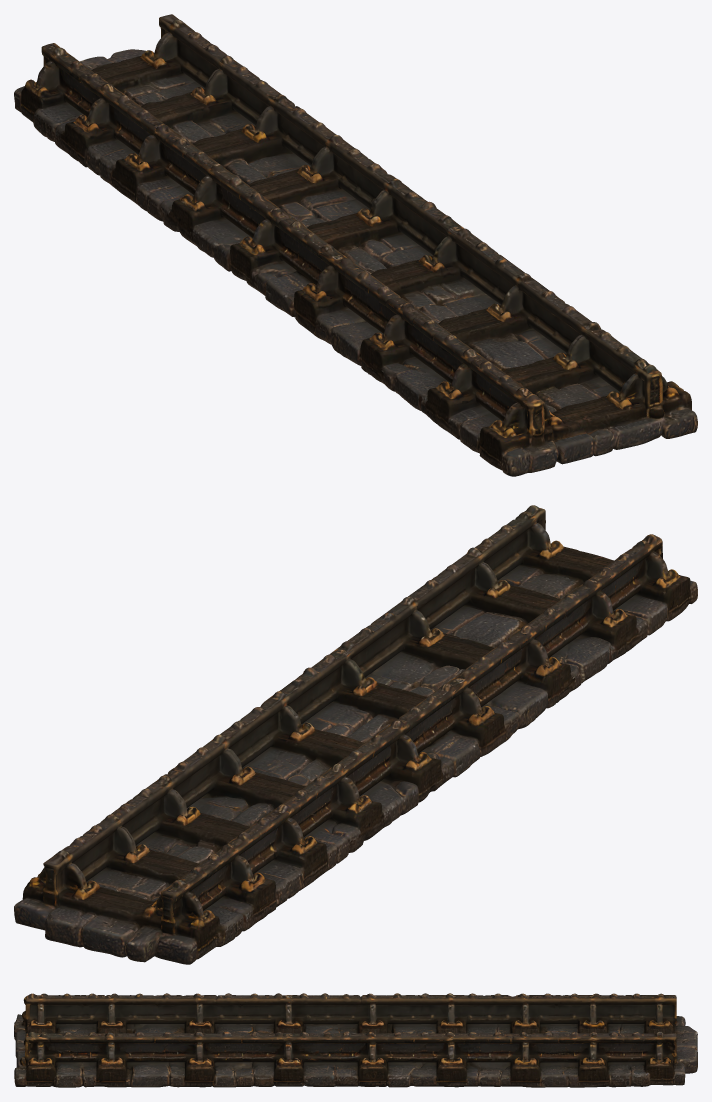
The model's file is raw_floorrail.glb.
The picture shows the model from 3 angles, top to bottom: view 1: azimuth 30°, elevation 25°; view 2: azimuth 150°, elevation 25°; view 3: azimuth 270°, elevation 25°; orthographic projection. The views are drawn at different scales.
Parts seen in each view (by area): view 1: floorrail; view 2: floorrail; view 3: floorrail.
Part boxes in pixels (x1,y1,x2,y2): floorrail: (14, 14, 697, 476); floorrail: (14, 505, 697, 964); floorrail: (14, 993, 697, 1087).
Bounding box in the file's own units: 0.2165 × 0.0712 × 1.
1 material, 1 textured.
